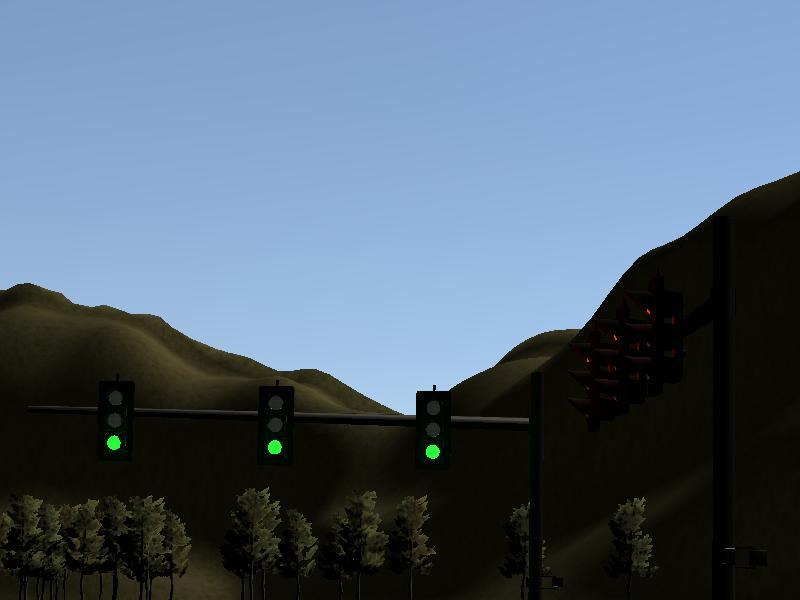Green: (96, 380, 135, 464), (413, 390, 452, 474), (255, 385, 294, 469)
